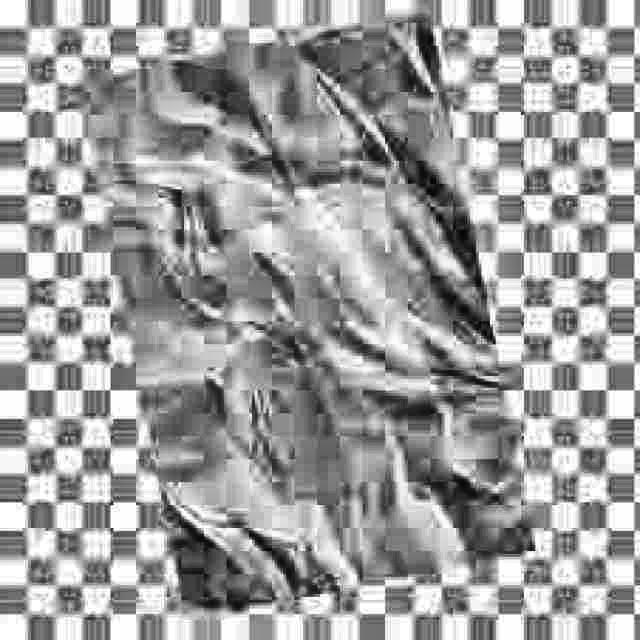Paper: (133, 9, 532, 600)
